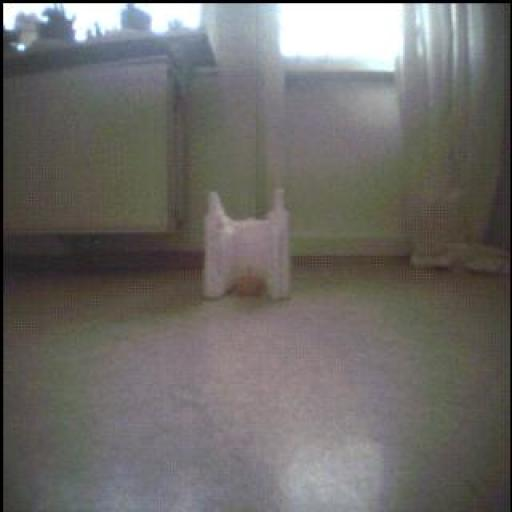Basket: (233, 266, 271, 304)
